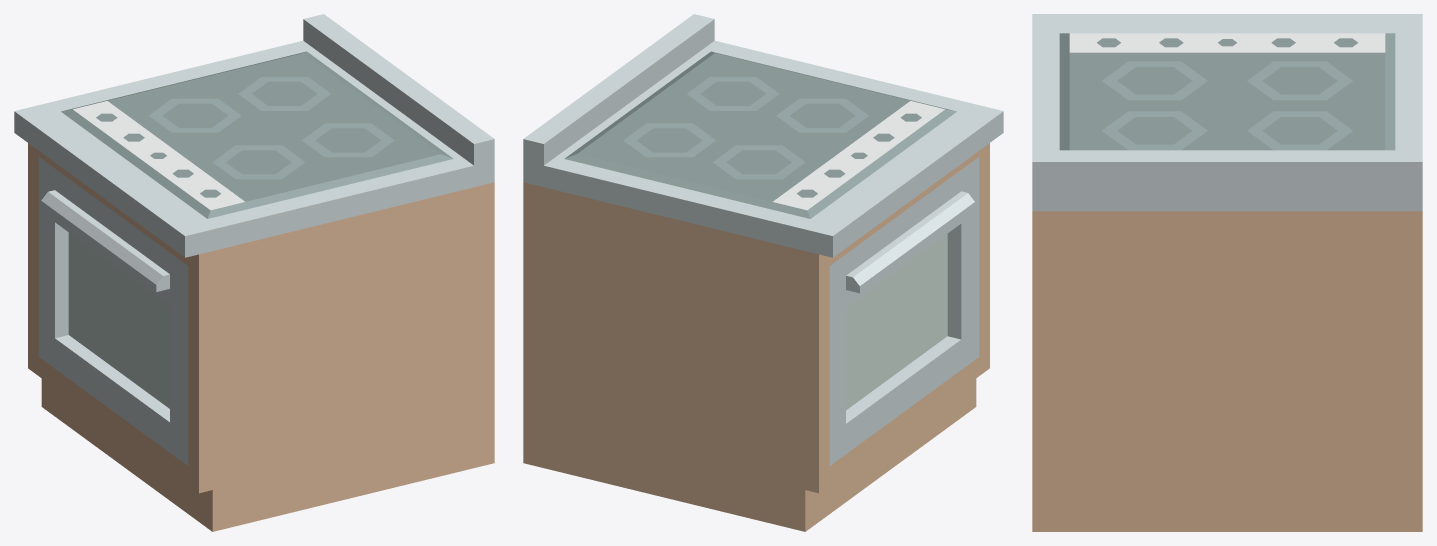
File: kitchenStoveElectric.fbx
3 views of the same model, side by side, from view 1: azimuth 30°, elevation 25°; view 2: azimuth 150°, elevation 25°; view 3: azimuth 270°, elevation 25° (orthographic). The views are drawn at different scales.
Parts seen in each view (by area): view 1: kitchenStoveElectric; view 2: kitchenStoveElectric; view 3: kitchenStoveElectric.
Boxes of the visible parts, left/top/right/bottom form: kitchenStoveElectric: left=14, top=14, right=494, bottom=531; kitchenStoveElectric: left=523, top=14, right=1003, bottom=531; kitchenStoveElectric: left=1032, top=14, right=1422, bottom=531.
Size of the model in its own units: 450 by 450 by 430.
